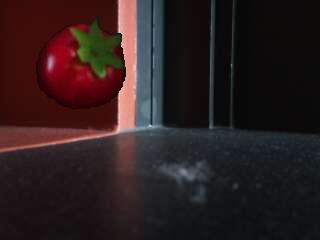Tomato: (35, 18, 126, 110)
